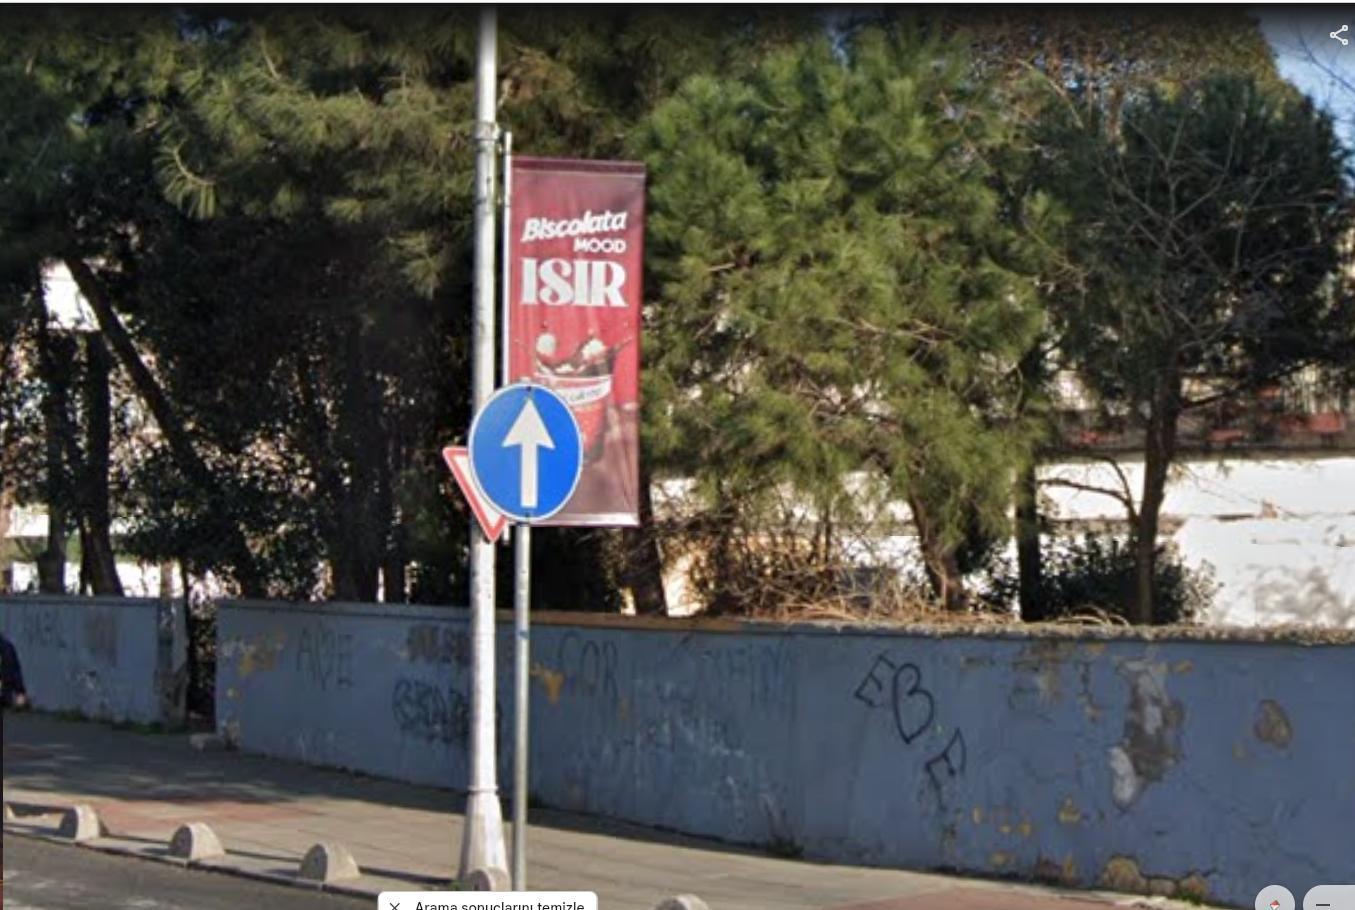forward: (479, 391, 579, 514)
